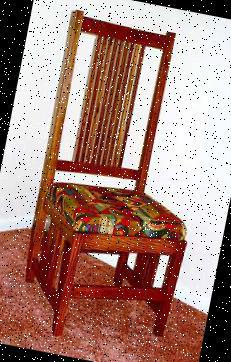Silla: (14, 12, 221, 353)
